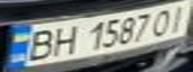1: (81, 18, 109, 52)
5: (103, 16, 124, 47)
7: (130, 11, 157, 42)
8: (118, 14, 142, 45)
B: (15, 27, 60, 62)
H: (42, 24, 81, 57)
I: (163, 1, 193, 33)
O: (148, 6, 178, 36)
